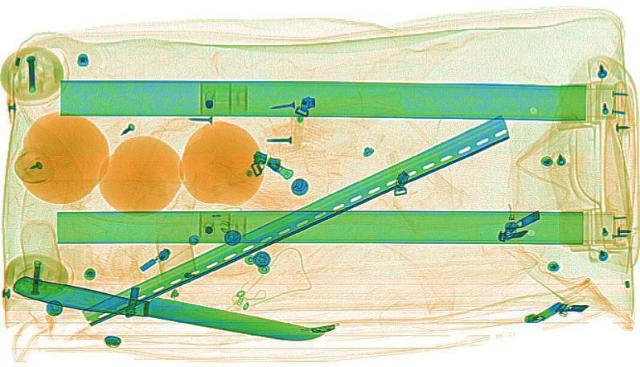Knife: (6, 271, 328, 351)
